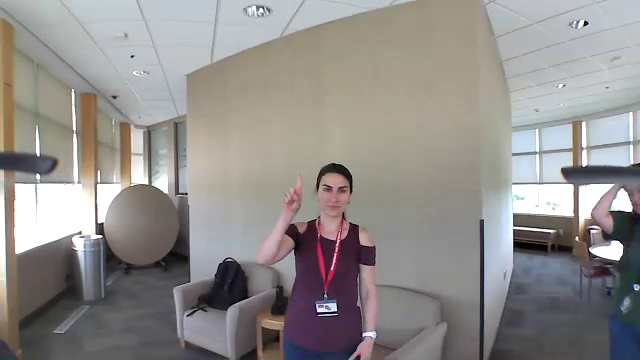up: (277, 168, 309, 217)
